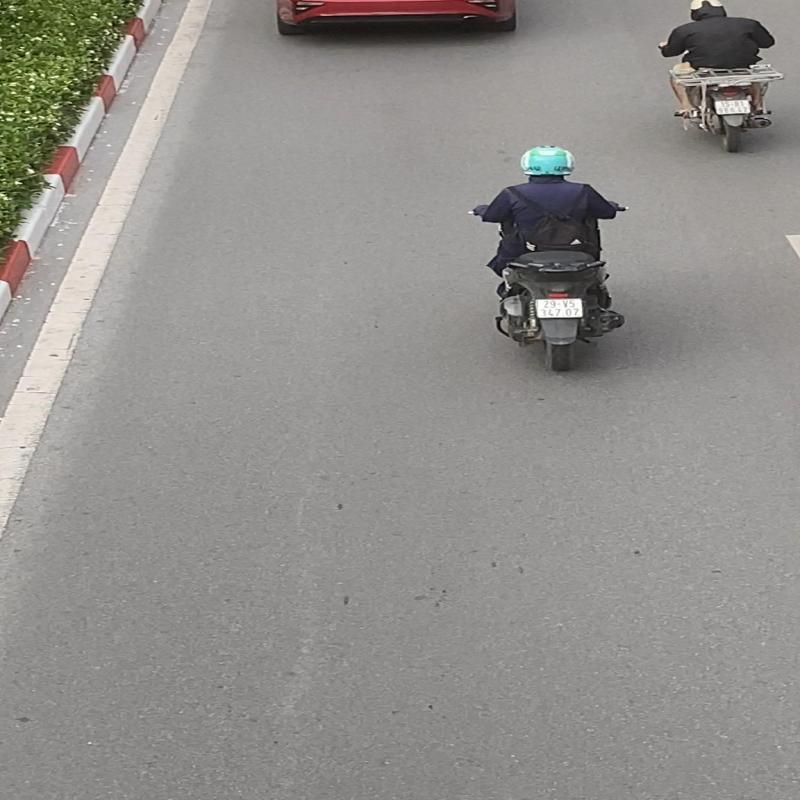helmet: (520, 145, 577, 175)
licenseplate: (532, 296, 586, 320)
motorcyclist: (472, 145, 628, 372)
